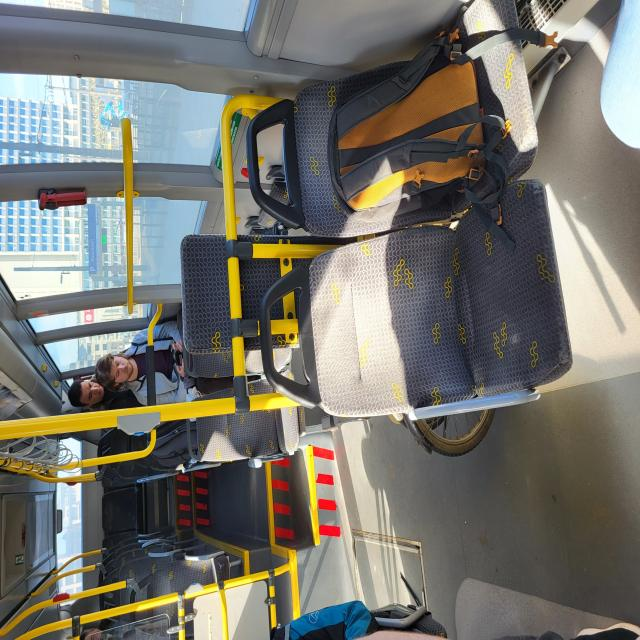asiento-libre: (151, 338, 346, 640), (164, 345, 347, 640), (130, 240, 203, 403), (128, 248, 202, 407), (2, 176, 70, 317), (18, 157, 68, 309), (118, 151, 161, 237), (43, 143, 76, 244), (79, 122, 116, 202), (22, 133, 59, 205), (117, 128, 160, 182), (78, 136, 118, 194), (61, 136, 82, 191)
